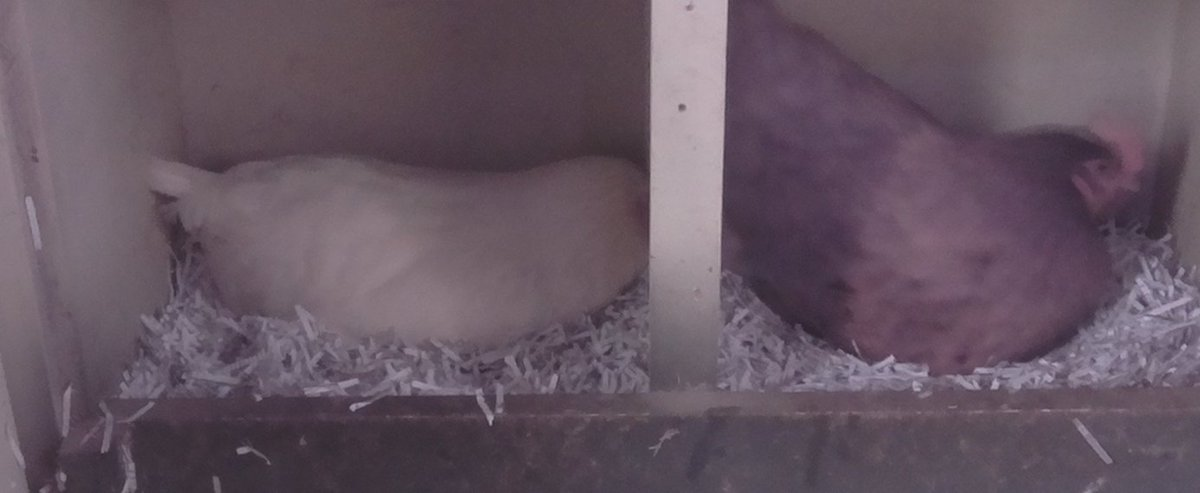hen: (730, 14, 1142, 374), (145, 149, 653, 362)
